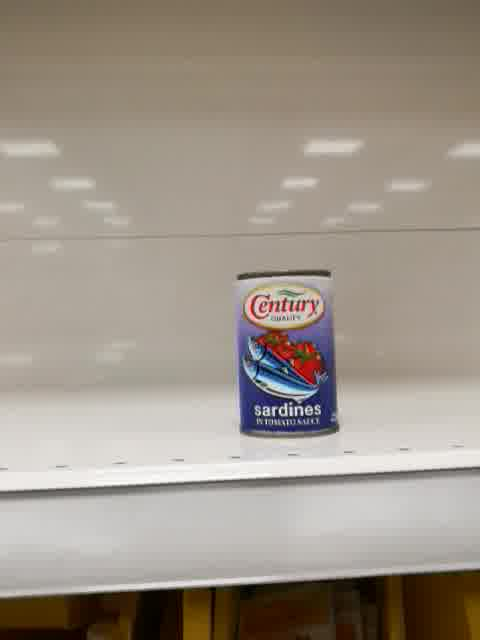sardine: (234, 266, 342, 439)
